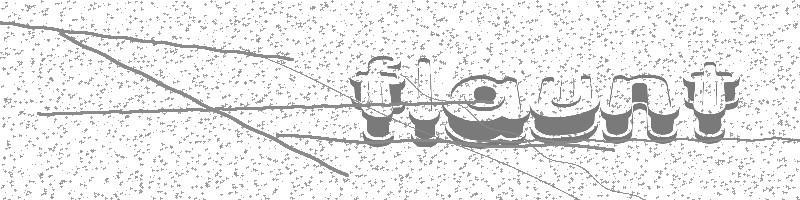a: (443, 74, 531, 149)
f: (349, 54, 408, 148)
l: (408, 57, 442, 149)
n: (601, 73, 681, 146)
t: (682, 61, 740, 144)
u: (530, 73, 600, 147)
